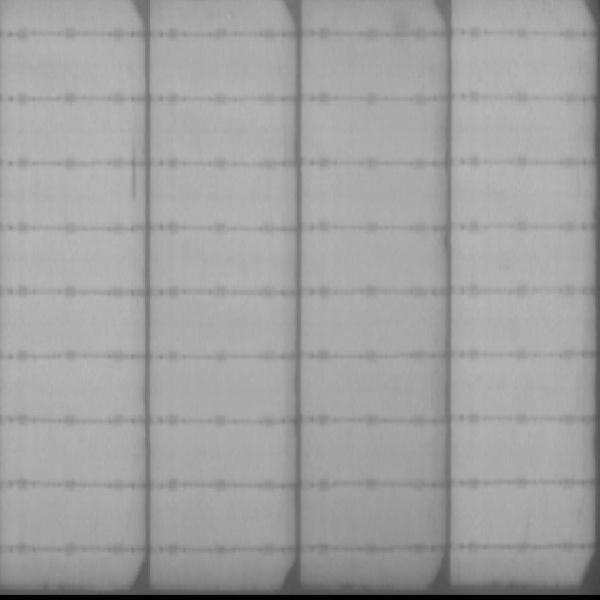scratch: (129, 135, 142, 211)
